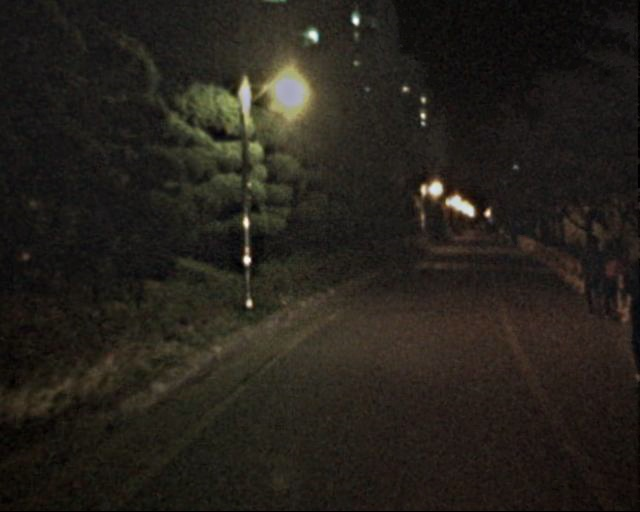person: (575, 236, 611, 324), (593, 239, 625, 316), (625, 245, 640, 394)
